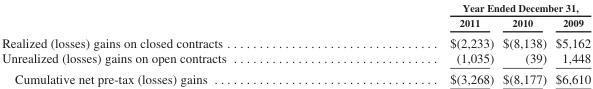table: (1, 1, 590, 85)
table column: (1, 1, 337, 85), (337, 1, 497, 85), (497, 1, 550, 85), (550, 1, 590, 85)
table column header: (1, 1, 590, 31)
table row: (1, 31, 590, 50), (1, 50, 590, 68), (1, 14, 590, 31), (1, 68, 590, 85), (1, 1, 590, 14)
table spanning cell: (337, 1, 590, 14)
